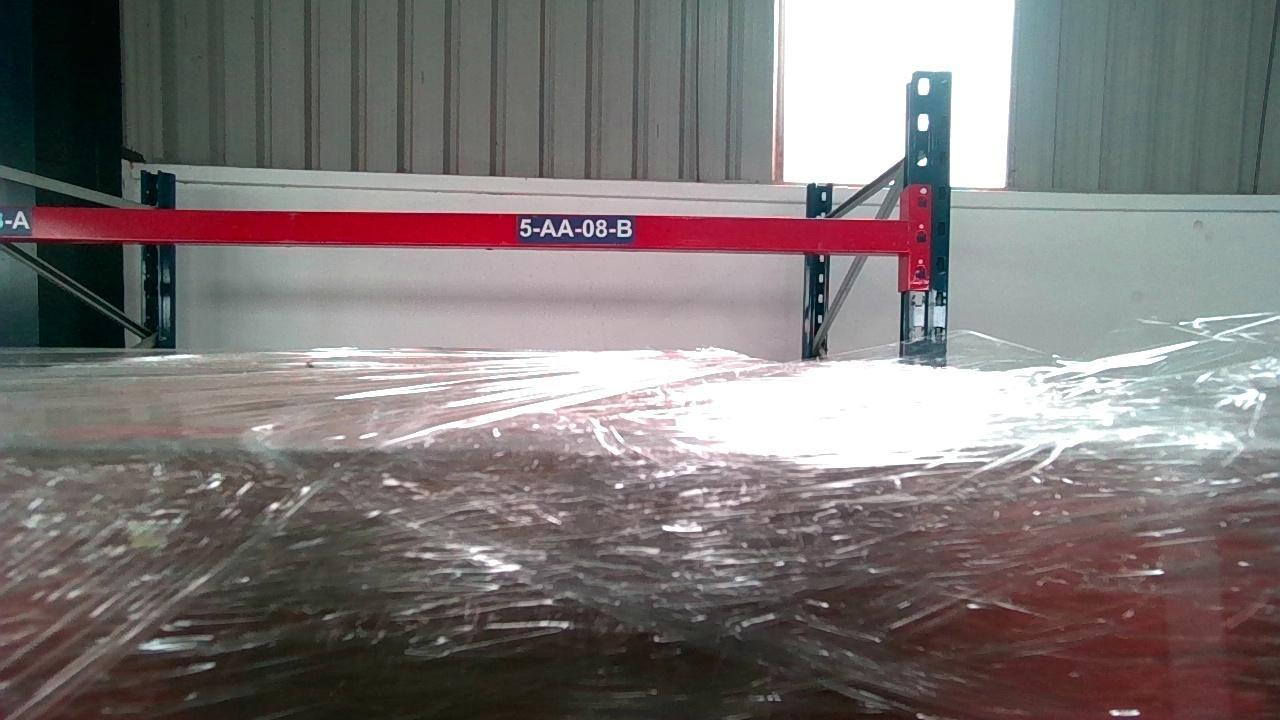h_rack: (0, 203, 903, 246)
